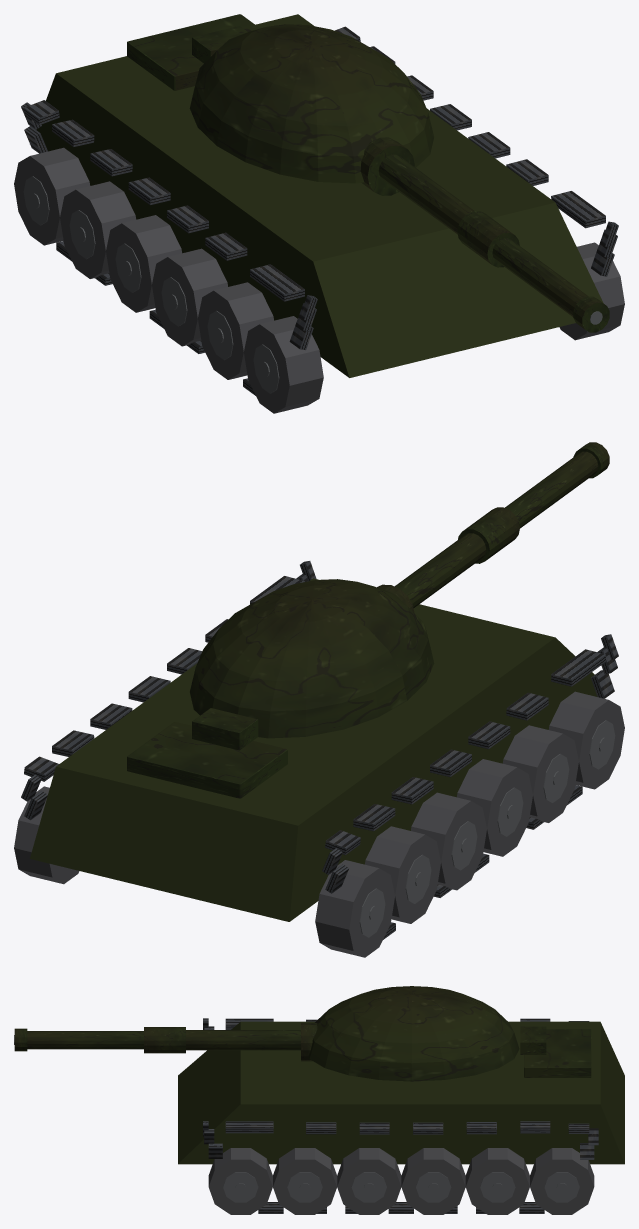
File: vanguard_LOD2.glb
3 renders of one model, top to bottom at view 1: azimuth 30°, elevation 25°; view 2: azimuth 150°, elevation 25°; view 3: azimuth 270°, elevation 25°, orthographic. The views are drawn at different scales.
Visible parts, largest first — view 1: HullMesh, TurretMesh, Wheels_L, TrackL, TrackR, Gun_tube1, Gun_tube2, Wheels_R, Gun_ext, Gun_brk; view 2: HullMesh, TurretMesh, Wheels_L, TrackL, TrackR, Gun_tube1, Gun_tube2, Wheels_R, Gun_ext; view 3: HullMesh, Wheels_R, TurretMesh, TrackR, Gun_tube1, Gun_tube2, Gun_ext, TrackL, Gun_brk.
Boxes of the visible parts, bbox=[...] form: HullMesh: bbox=[36, 14, 603, 377]; TurretMesh: bbox=[189, 24, 433, 195]; Wheels_L: bbox=[14, 147, 323, 413]; TrackL: bbox=[21, 100, 317, 395]; TrackR: bbox=[335, 26, 618, 276]; Gun_tube1: bbox=[378, 154, 473, 234]; Gun_tube2: bbox=[492, 238, 599, 328]; Wheels_R: bbox=[559, 242, 624, 340]; Gun_ext: bbox=[457, 211, 519, 267]; Gun_brk: bbox=[573, 296, 609, 332]; HullMesh: bbox=[30, 578, 597, 921]; TurretMesh: bbox=[190, 579, 434, 750]; Wheels_L: bbox=[315, 691, 624, 957]; TrackL: bbox=[322, 634, 618, 939]; TrackR: bbox=[21, 561, 316, 820]; Gun_tube1: bbox=[394, 533, 486, 607]; Gun_tube2: bbox=[505, 451, 598, 528]; Wheels_R: bbox=[14, 786, 79, 884]; Gun_ext: bbox=[458, 507, 519, 563]; HullMesh: bbox=[178, 1021, 624, 1164]; Wheels_R: bbox=[208, 1148, 594, 1214]; TurretMesh: bbox=[301, 986, 546, 1081]; TrackR: bbox=[203, 1121, 598, 1213]; Gun_tube1: bbox=[186, 1030, 300, 1050]; Gun_tube2: bbox=[27, 1031, 143, 1049]; Gun_ext: bbox=[144, 1027, 185, 1053]; TrackL: bbox=[203, 1018, 589, 1029]; Gun_brk: bbox=[14, 1028, 27, 1051].
Bounding box in the file's own units: 3.91 × 2.6 × 8.75.
Materials: 5 (3 with a texture image).
